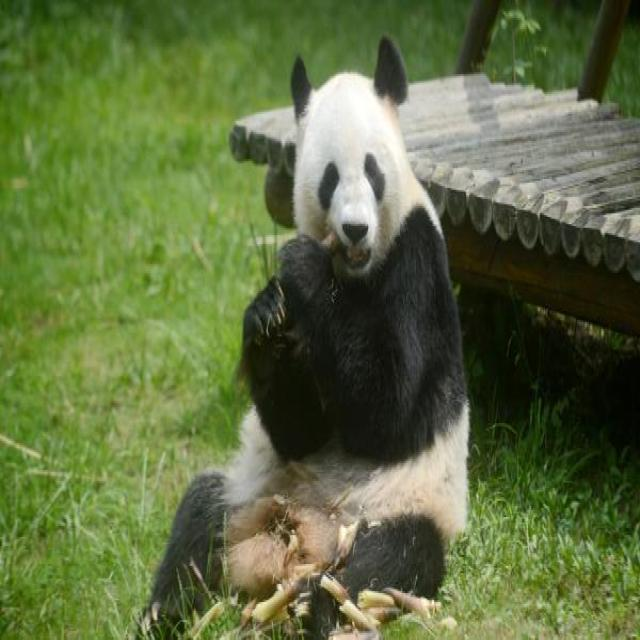panda: (206, 59, 492, 640)
